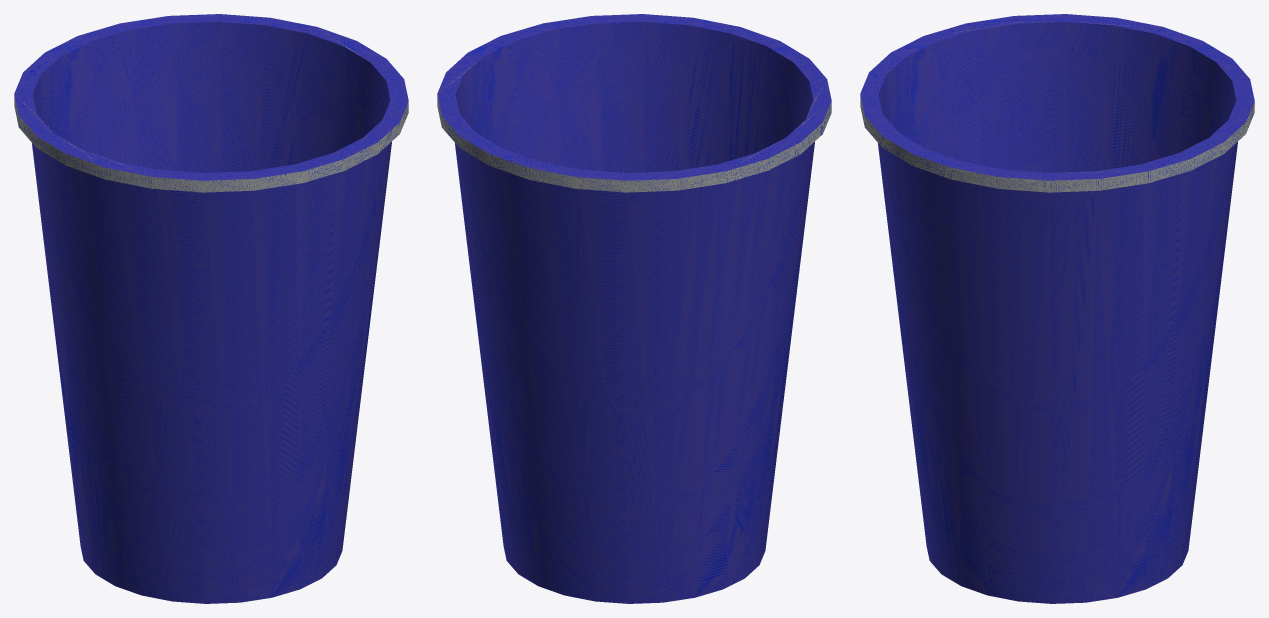
Rendered from blueCup_sketchup.dae.
The picture shows the model from 3 angles, left to right: view 1: azimuth 30°, elevation 25°; view 2: azimuth 150°, elevation 25°; view 3: azimuth 270°, elevation 25°; orthographic projection.
Parts seen in each view (by area): view 1: SketchUp_002; view 2: SketchUp_002; view 3: SketchUp_002.
Boxes of the visible parts, box(x1,y1,x2,y2) form: SketchUp_002: box(14, 14, 408, 603); SketchUp_002: box(437, 14, 831, 603); SketchUp_002: box(860, 14, 1254, 603).
Bounding box in the file's own units: 0.0956 × 0.0956 × 0.1206.
